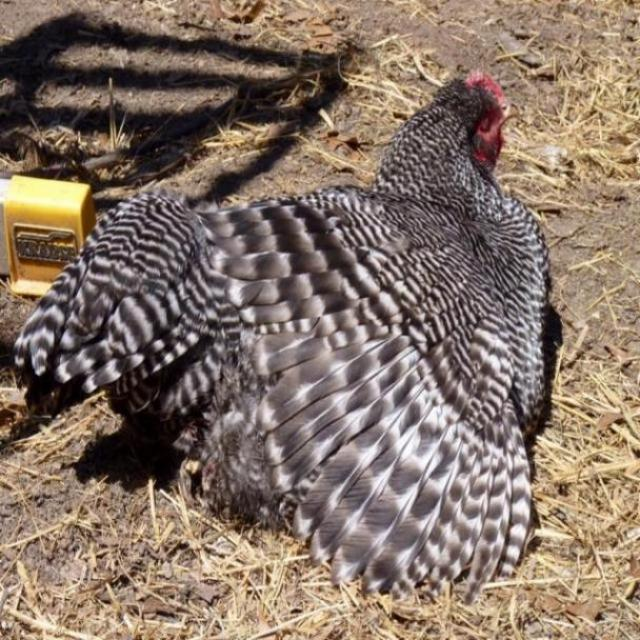Chicken: (22, 89, 565, 557)
